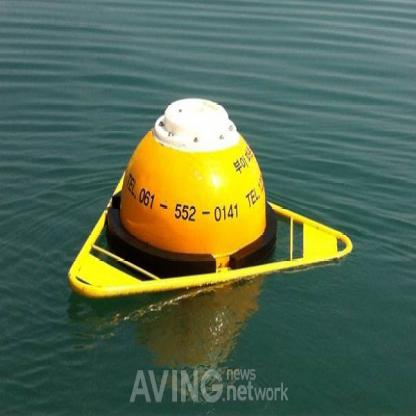buoy: (61, 63, 362, 315)
